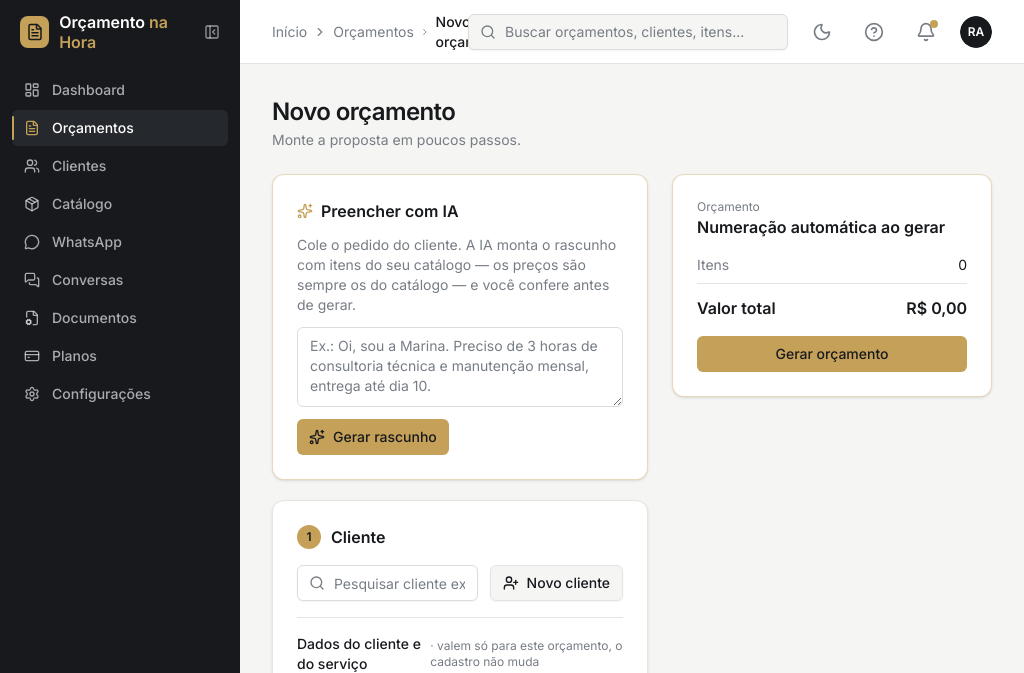
Test: gerador de orçamento › preenche o rascunho com IA, sinaliza o que veio da IA e só salva ao gerar
The width and height of the screenshot is (1024, 673).
Type "Marina quer 3 horas de consultoria e um drone" into the text box named "Pedido do cliente" at (460, 367), box [297,327,623,407]
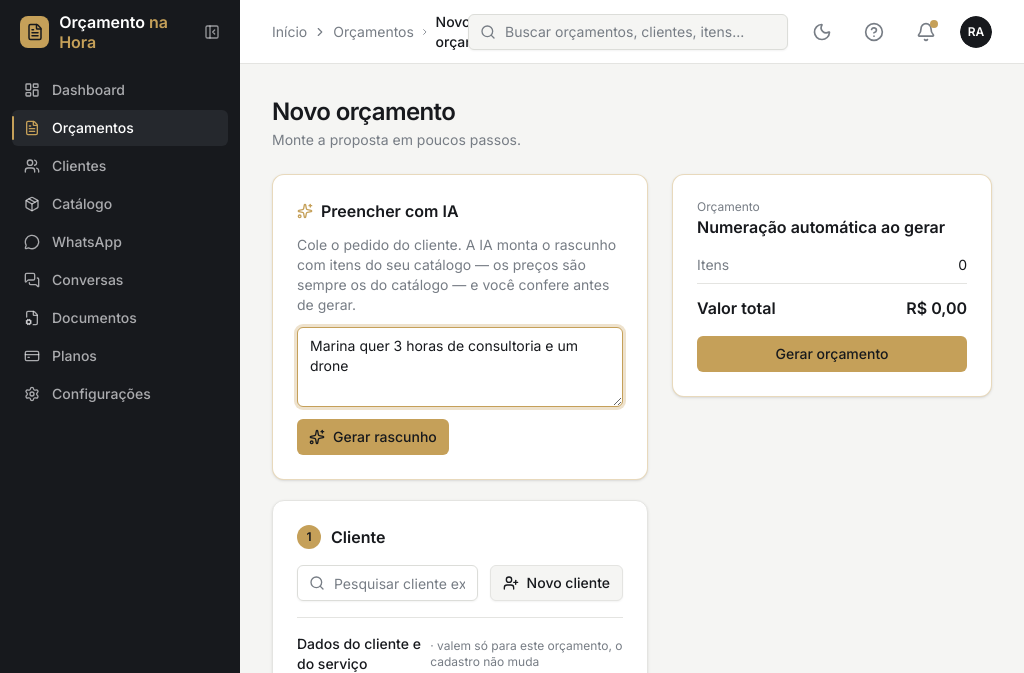
Click the button "Gerar rascunho" at (373, 437), box [297,419,449,455]
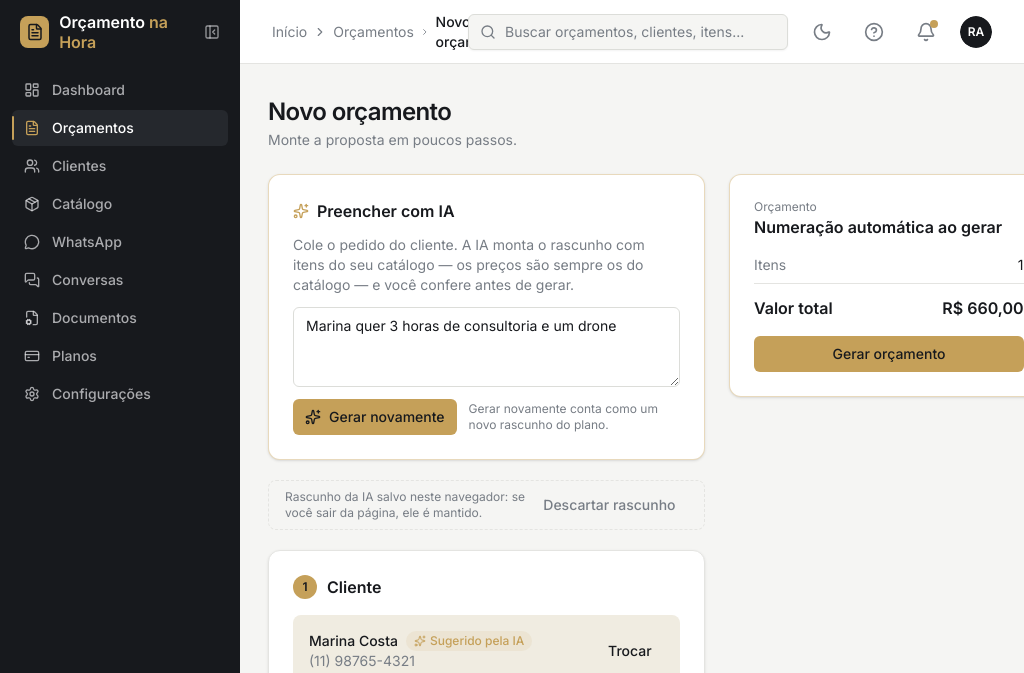
Expected: the text "Marina Costa" is shown, [309,632,398,649]
Expected: the text with test id "total" shows "660,00", [942,298,1023,318]
Click the button "Gerar orçamento" at (889, 354), box [754,336,1023,372]
(page scrolled)
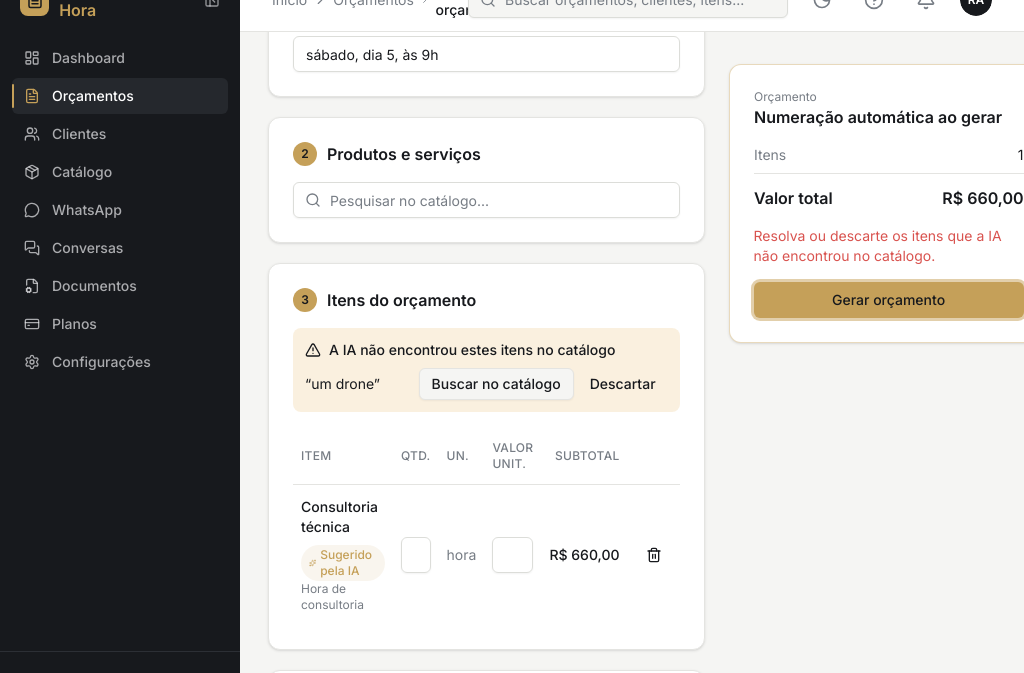
Expected: the message shows "Resolva ou descarte", [754,227,1002,264]
Click the button "Descartar" at (623, 384), box [578,368,668,400]
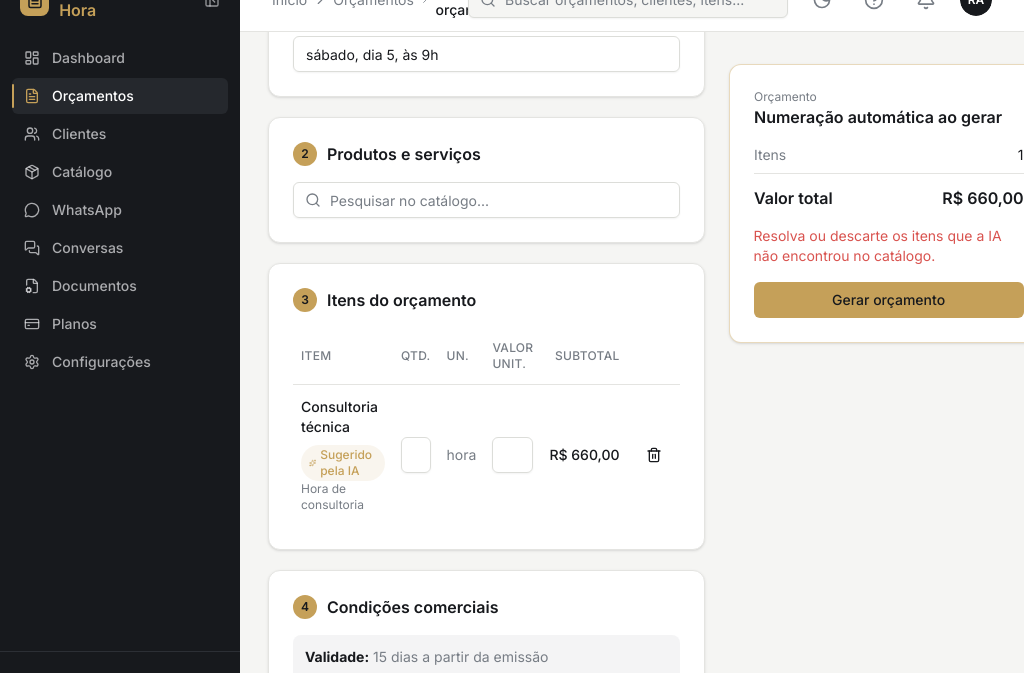
Click the button "Gerar orçamento" at (889, 300), box [754,282,1023,318]
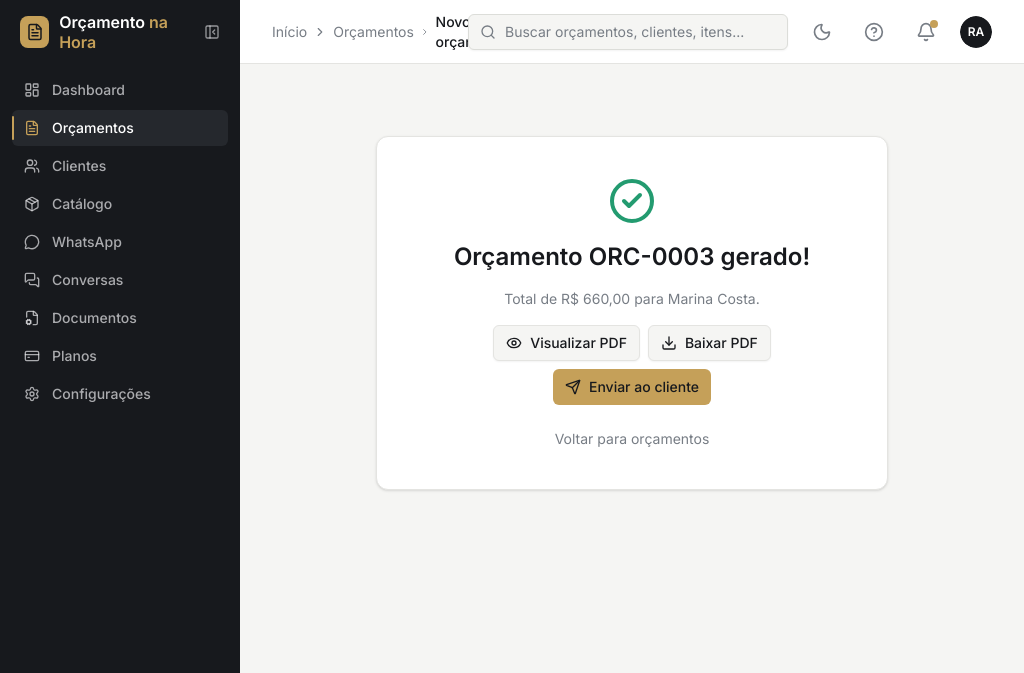
Expected: the heading "Orçamento ORC-0003 gerado!" is shown, [454,241,810,273]
